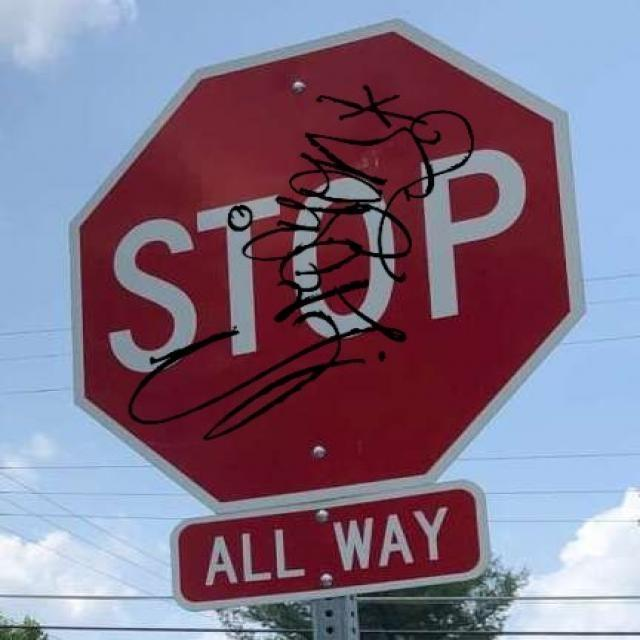Stop-Sign: (72, 42, 564, 487)
